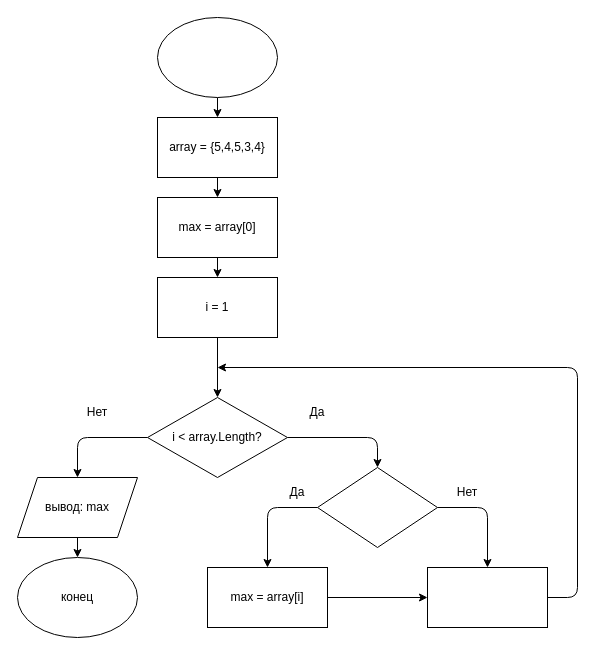
The diagram is 603 pixels wide and 655 high, and some of its shapes have lost their labels. The shapes that lost their labels are listed below. From the top down, each one's centre as x and y in pixels, then its label:
At (217,57): "начало".
At (377,507): "array[i] > max?".
At (487,597): "i = i + 1".
